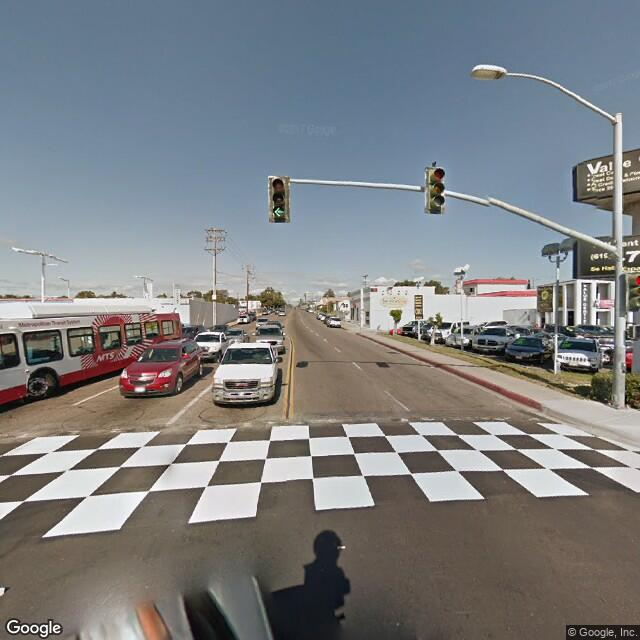litter: (1, 587, 12, 599)
